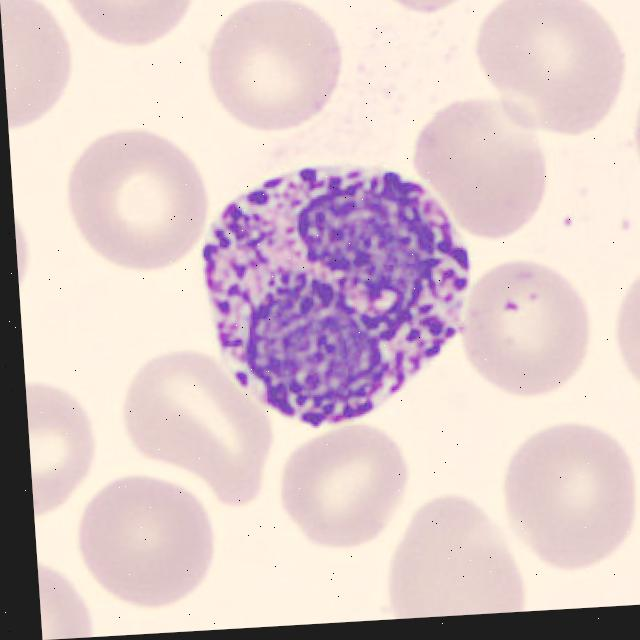basophil: (182, 151, 499, 460)
rbc: (188, 0, 382, 146), (127, 346, 284, 514), (469, 0, 635, 141), (61, 132, 215, 280), (444, 257, 598, 404), (507, 407, 640, 574), (414, 85, 548, 241), (71, 483, 224, 617), (374, 483, 522, 620), (267, 417, 405, 551), (25, 373, 105, 537), (0, 0, 81, 149), (60, 0, 232, 68), (13, 188, 56, 342), (359, 0, 491, 44), (37, 551, 100, 640), (609, 56, 640, 215), (610, 265, 640, 412), (635, 446, 640, 588)
